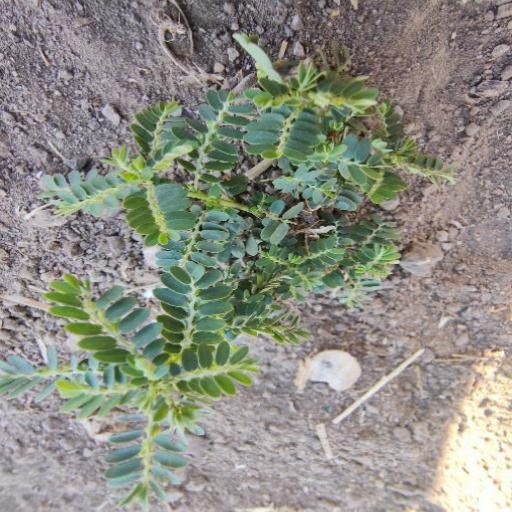weed: (41, 73, 406, 486)
